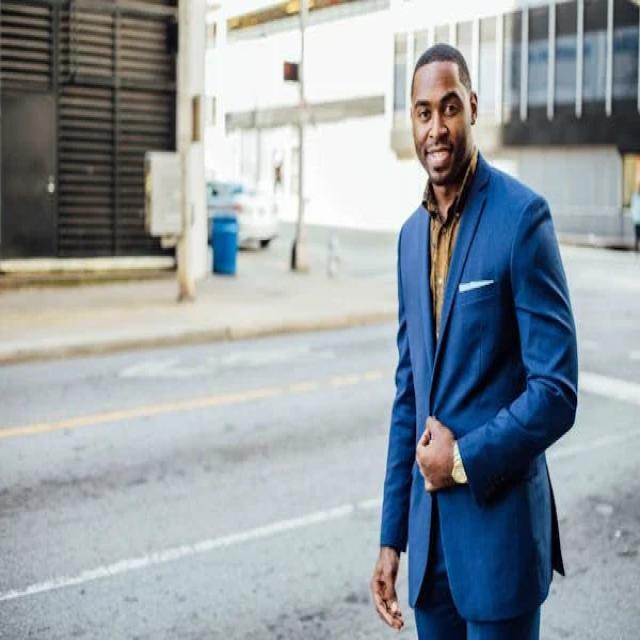Real human 2: (362, 32, 592, 640)
